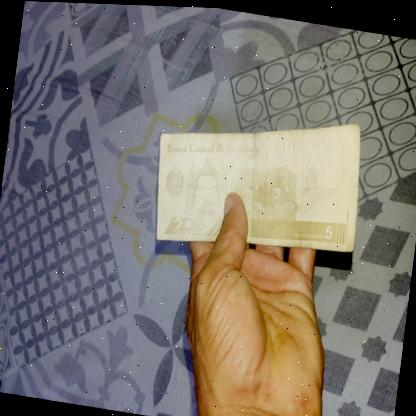vef_back: (150, 91, 368, 268)
